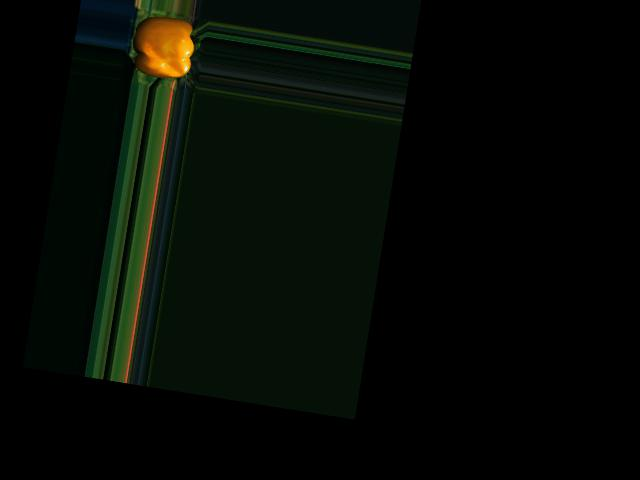bell_pepper: (126, 8, 204, 88)
